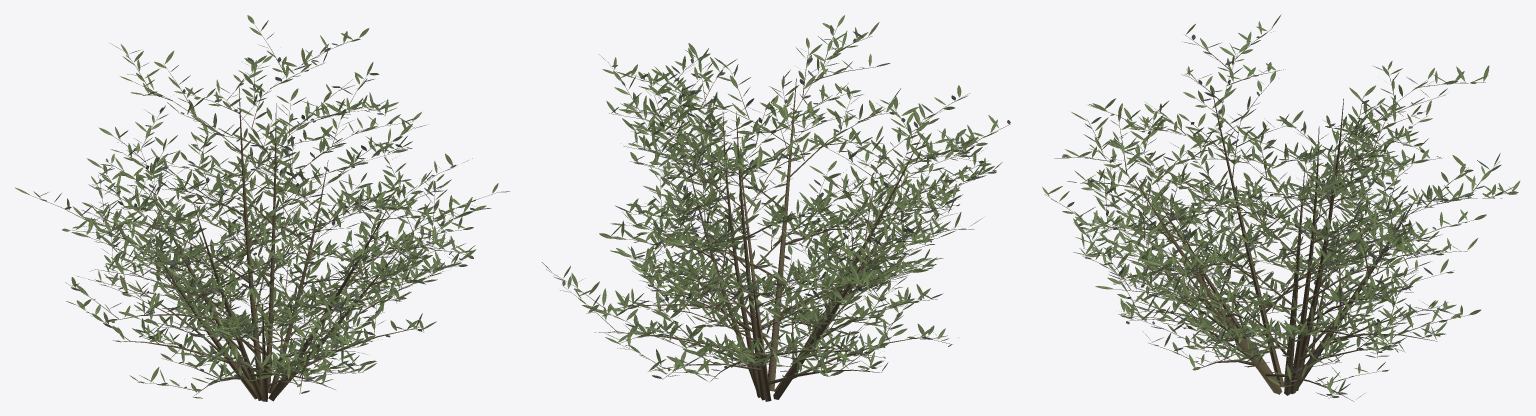
Rendered from oleaster-lod1.glb.
The picture shows the model from 3 angles, left to right: view 1: azimuth 30°, elevation 25°; view 2: azimuth 150°, elevation 25°; view 3: azimuth 270°, elevation 25°; orthographic projection. The views are drawn at different scales.
Visible parts, largest first — view 1: Elaeagnus angustifolia; view 2: Elaeagnus angustifolia; view 3: Elaeagnus angustifolia.
Part boxes in pixels (bbox=[...]): Elaeagnus angustifolia: bbox=[15, 15, 509, 401]; Elaeagnus angustifolia: bbox=[542, 15, 1010, 401]; Elaeagnus angustifolia: bbox=[1042, 14, 1520, 401].
Size of the model in its own units: 1.69 by 1.39 by 1.9.
Materials: 2 (1 with a texture image).
